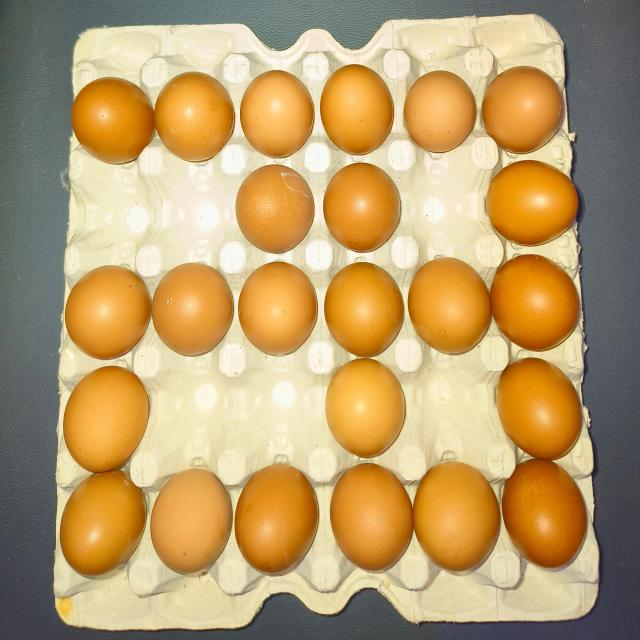Eggs: (60, 364, 150, 476), (417, 465, 502, 577), (150, 473, 234, 580), (494, 355, 584, 454), (492, 251, 578, 354), (234, 466, 318, 568), (506, 462, 586, 568), (54, 484, 148, 574), (413, 250, 488, 362), (485, 160, 581, 247), (239, 263, 320, 365), (150, 264, 234, 362), (326, 258, 406, 356), (65, 262, 147, 355), (322, 365, 408, 453), (488, 65, 568, 153), (335, 463, 410, 556), (320, 62, 394, 153), (71, 75, 150, 160), (158, 75, 234, 163), (238, 166, 314, 251), (326, 166, 400, 248), (244, 72, 312, 159), (408, 72, 474, 153)
